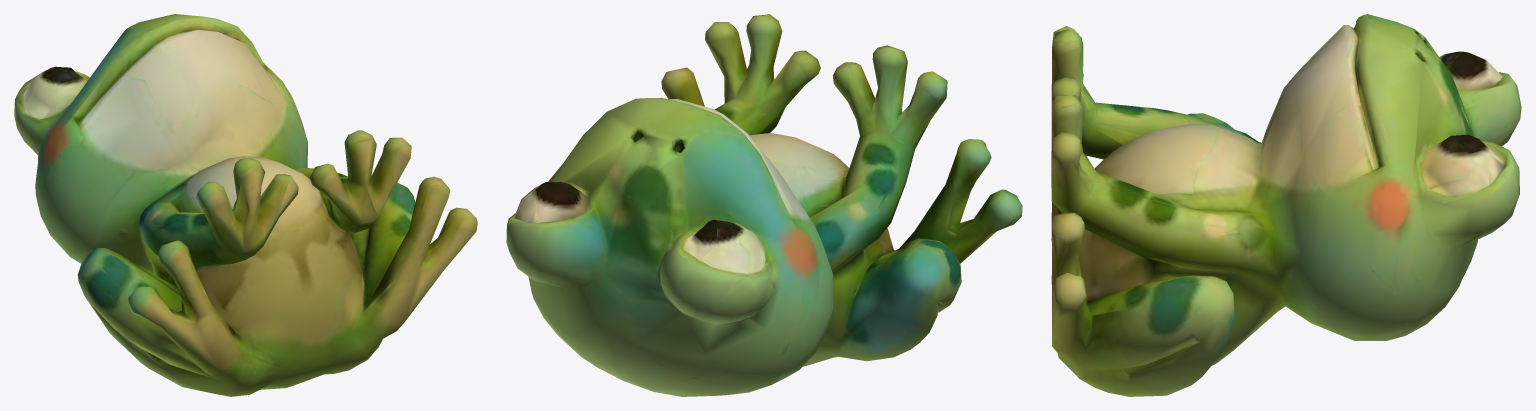
3 views of the same model, side by side, from view 1: azimuth 30°, elevation 25°; view 2: azimuth 150°, elevation 25°; view 3: azimuth 270°, elevation 25° (orthographic). The views are drawn at different scales.
Parts seen in each view (by area): view 1: material; view 2: material; view 3: material.
Part boxes in pixels (box(x1,y1,x2,y2)): material: box(14, 14, 477, 396); material: box(506, 14, 1022, 396); material: box(1051, 14, 1521, 396).
Bounding box in the file's own units: 0.995 × 0.8077 × 1.
Materials: 1 (1 with a texture image).
